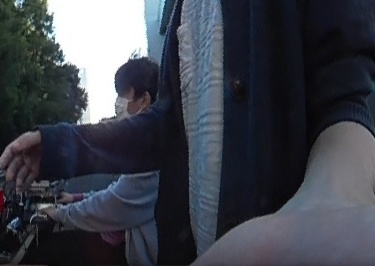person: (64, 47, 167, 266)
